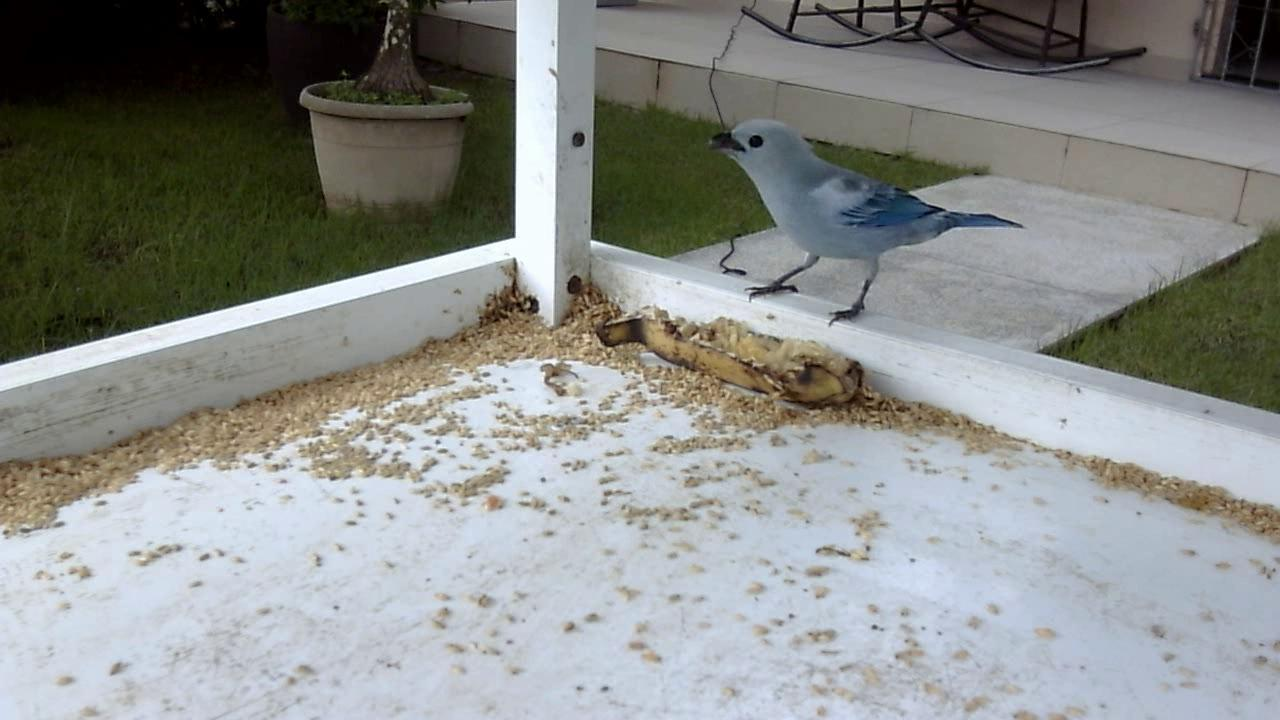sanhaco_da_amazonia: (701, 113, 1026, 329)
